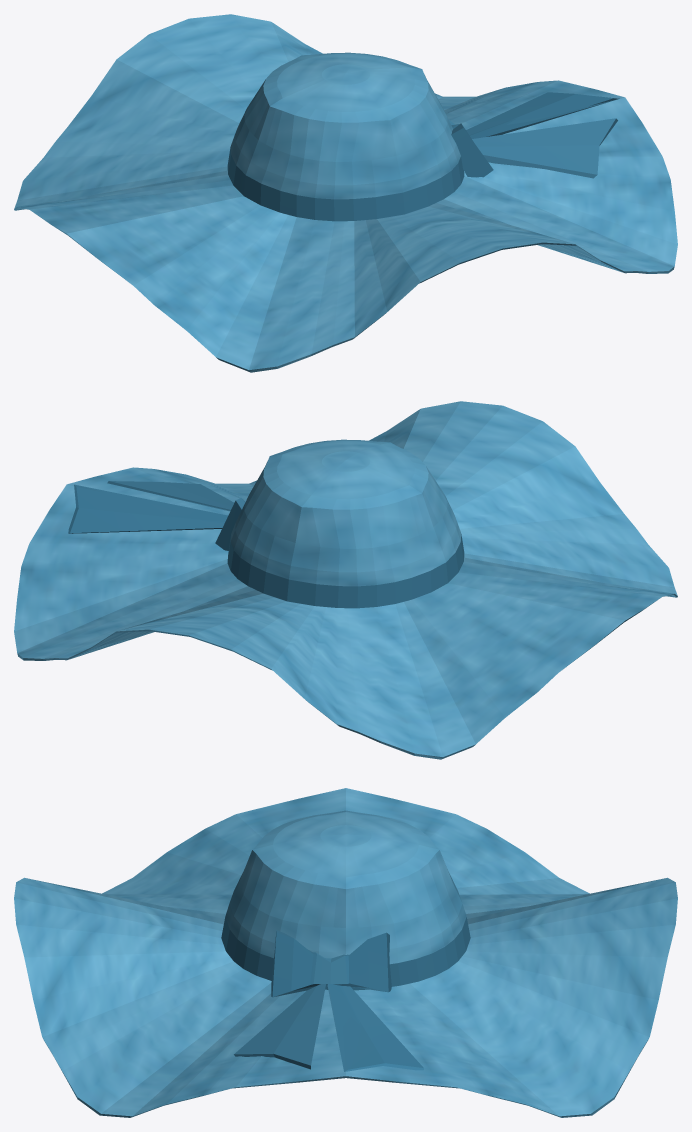
File: sunhat.fbx
The picture shows the model from 3 angles, top to bottom: view 1: azimuth 30°, elevation 25°; view 2: azimuth 150°, elevation 25°; view 3: azimuth 270°, elevation 25°; orthographic projection. The views are drawn at different scales.
Visible parts, largest first — view 1: sunhat; view 2: sunhat; view 3: sunhat.
Part boxes in pixels (left/top/right/bottom): sunhat: left=14, top=14, right=677, bottom=372; sunhat: left=14, top=401, right=677, bottom=759; sunhat: left=14, top=788, right=677, bottom=1117.
Bounding box in the file's own units: 80.03 × 22.3 × 77.94.
